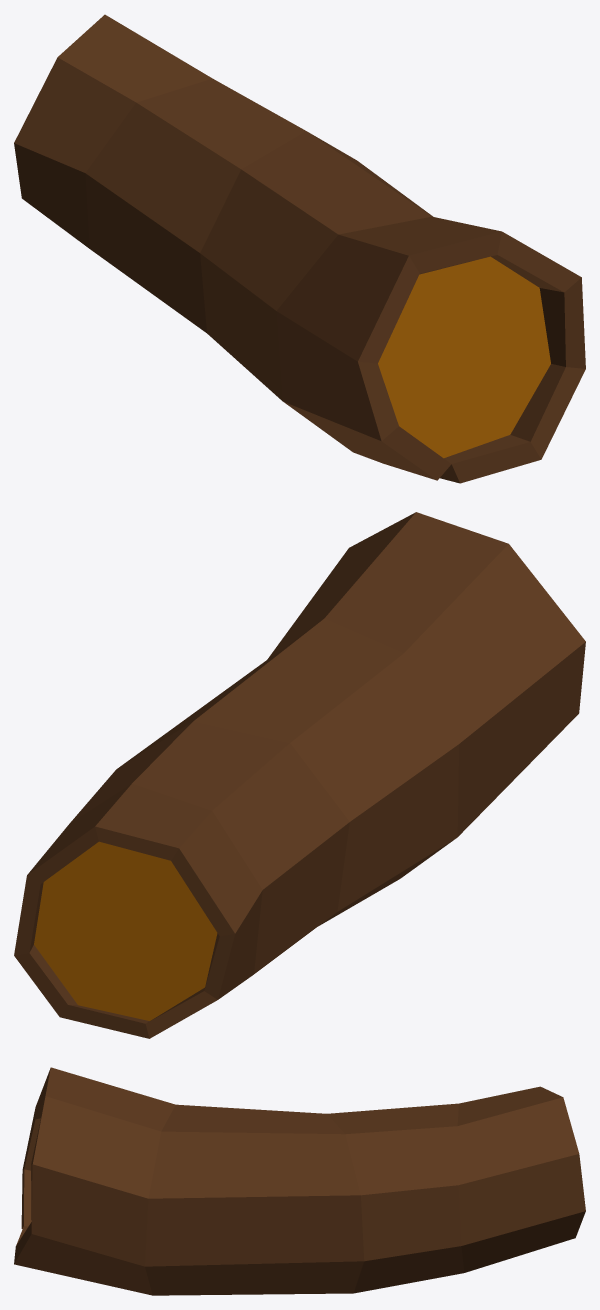
File: log_1.glb
3 renders of one model, top to bottom at view 1: azimuth 30°, elevation 25°; view 2: azimuth 150°, elevation 25°; view 3: azimuth 270°, elevation 25°, orthographic. The views are drawn at different scales.
Visible parts, largest first — view 1: log_1; view 2: log_1; view 3: log_1.
Part boxes in pixels (box(x1,y1,x2,y2)): log_1: box(14, 14, 585, 483); log_1: box(14, 512, 585, 1038); log_1: box(14, 1067, 585, 1295).
Bounding box in the file's own units: 0.7943 × 0.8502 × 2.24.
